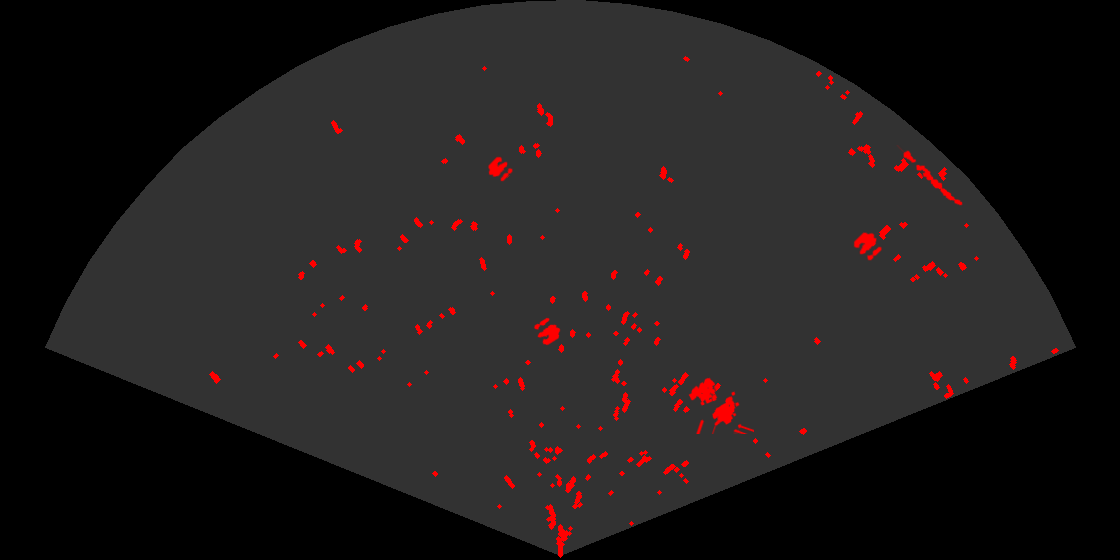ball: (852, 231, 884, 262), (532, 316, 562, 347), (486, 155, 514, 183)
cage: (687, 376, 754, 434)
chain: (895, 145, 964, 207)
